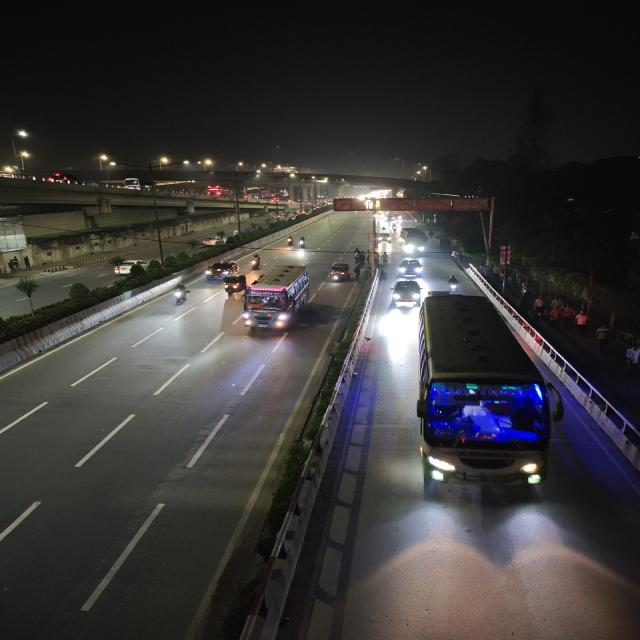bus: (414, 292, 554, 490), (239, 264, 316, 334), (398, 227, 427, 257)
car: (388, 277, 424, 309), (202, 259, 241, 281), (396, 258, 426, 278), (378, 228, 393, 245), (200, 236, 223, 247)
cng: (220, 273, 247, 297), (328, 260, 352, 285)
motorcycle: (167, 282, 195, 308), (446, 275, 464, 293), (247, 252, 264, 271), (295, 234, 308, 250), (284, 233, 296, 249)
